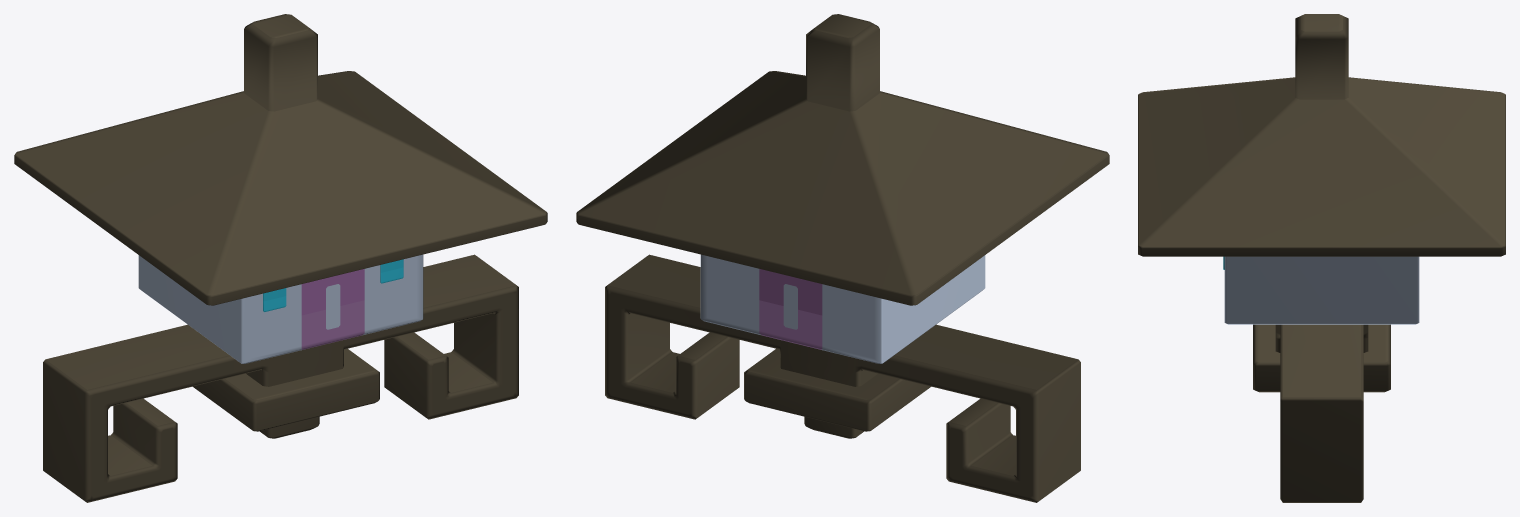
The picture shows the model from 3 angles, left to right: view 1: azimuth 30°, elevation 25°; view 2: azimuth 150°, elevation 25°; view 3: azimuth 270°, elevation 25°; orthographic projection. The views are drawn at different scales.
Visible parts, largest first — view 1: model; view 2: model; view 3: model.
Boxes of the visible parts, x1,y1,x2,y2 form: model: (14,14,547,502); model: (576,14,1109,502); model: (1138,14,1505,502).
Size of the model in its own units: 2.5 by 2.25 by 1.96.
